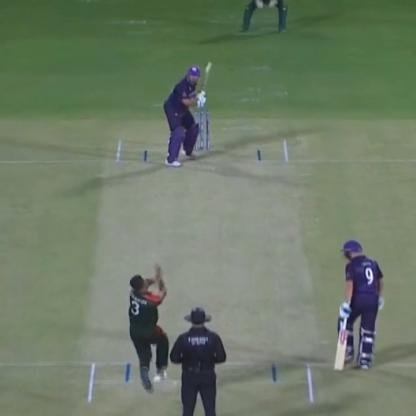ball: (144, 261, 165, 276)
bat: (192, 52, 218, 110)
pitch: (81, 124, 322, 416)
